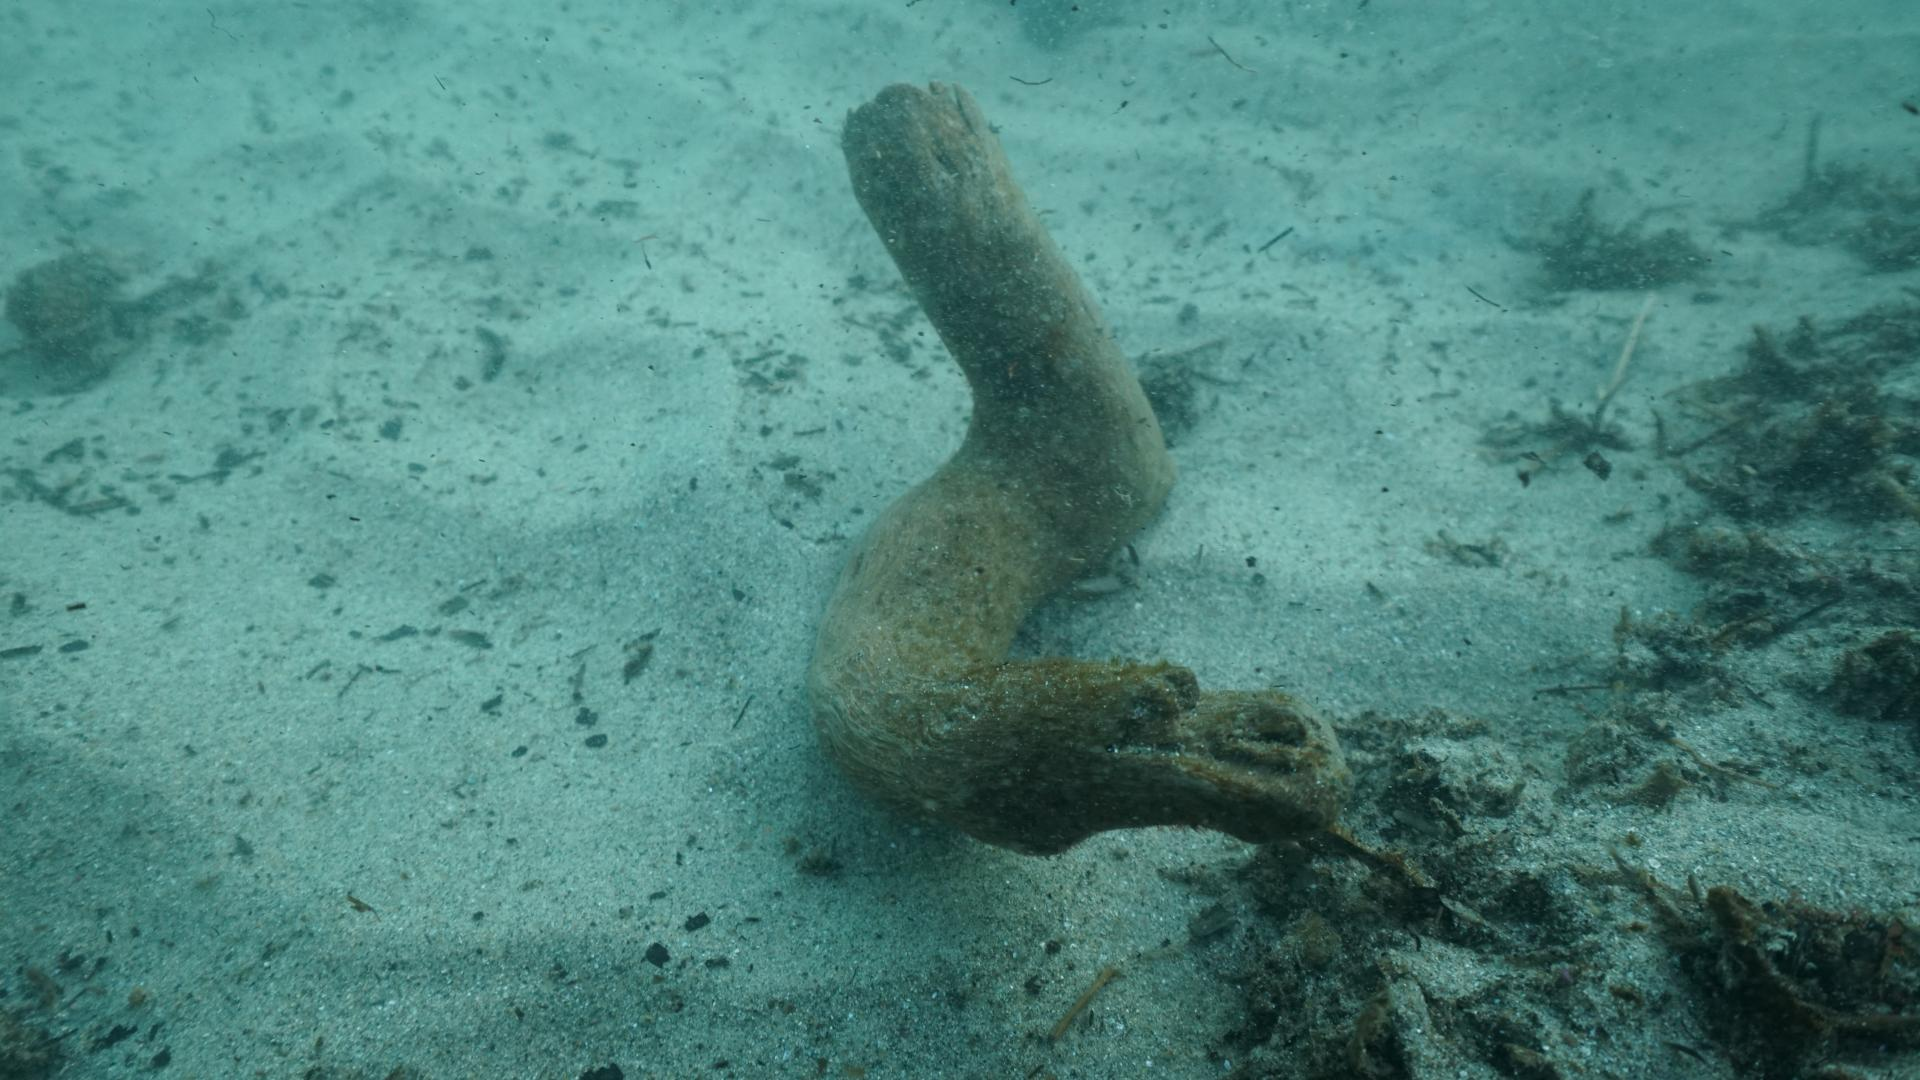wood: (800, 82, 1352, 858)
